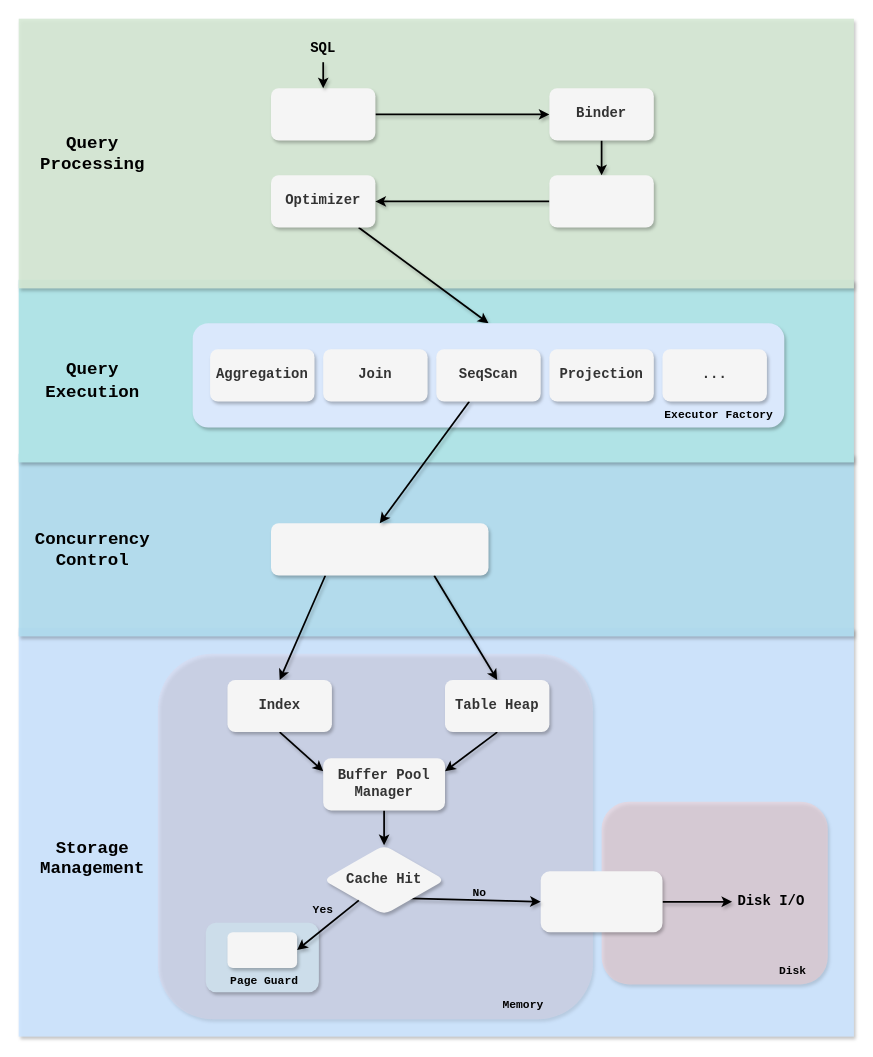
Image size: 873x1057. Some labels were removed from this diagram. The centre of each missing label's shape, as x and y in pixels:
"Disk Manager" belongs at (602,902).
"Page" belongs at (263,951).
"Parser" belongs at (323,115).
"Planner" belongs at (602,202).
"Transaction Manager" belongs at (380,550).
